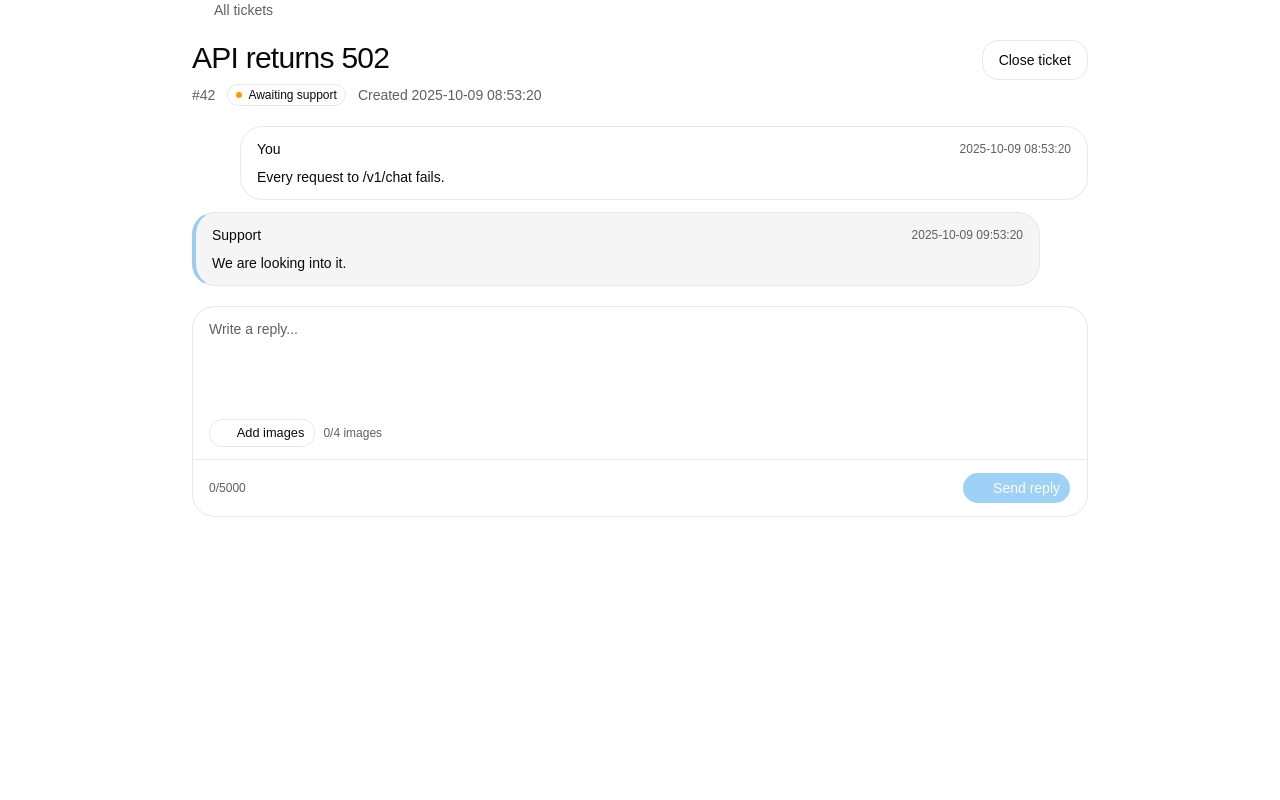
Test case: next support ticket detail › closes the ticket only after the user confirms
The width and height of the screenshot is (1280, 800).
Click the button "Close ticket" at coordinates (1035, 60), box [982,40,1088,80]
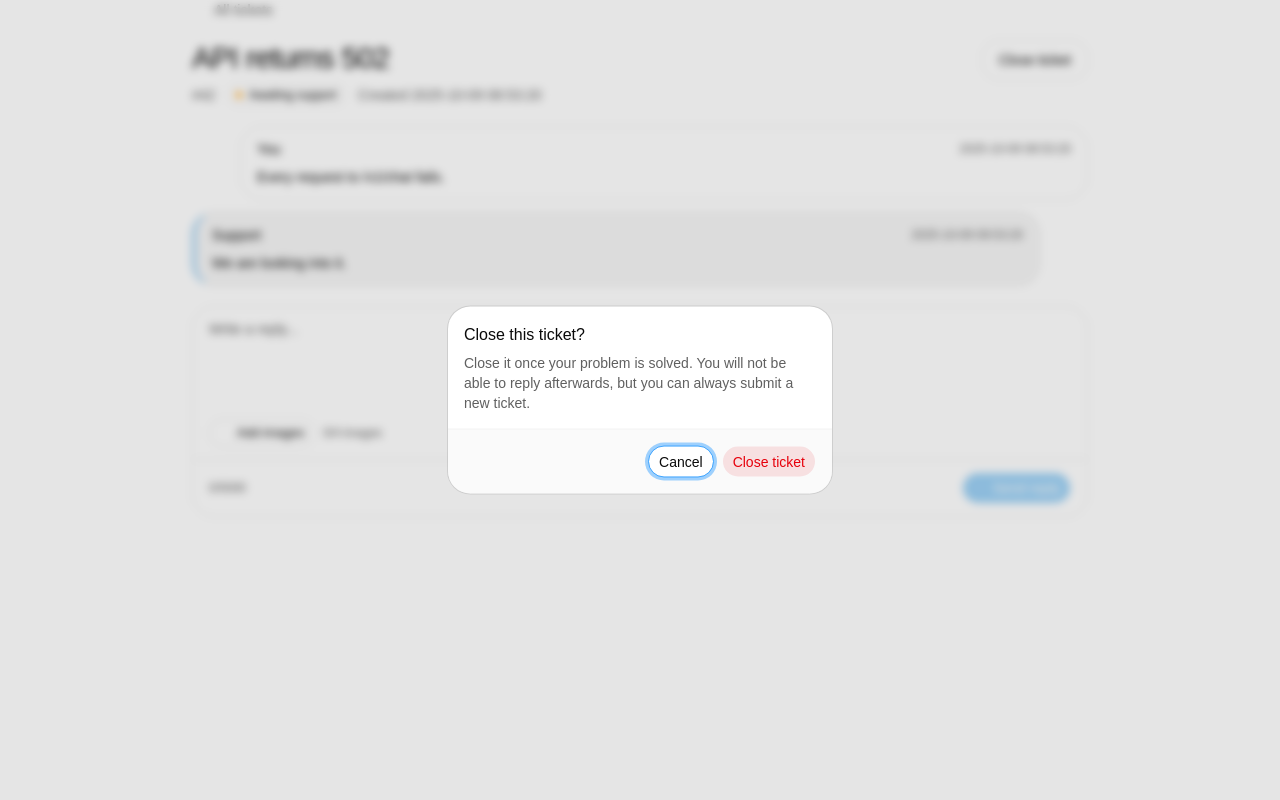
Click the button "Close ticket" at coordinates (769, 462), box [722,446,816,478]
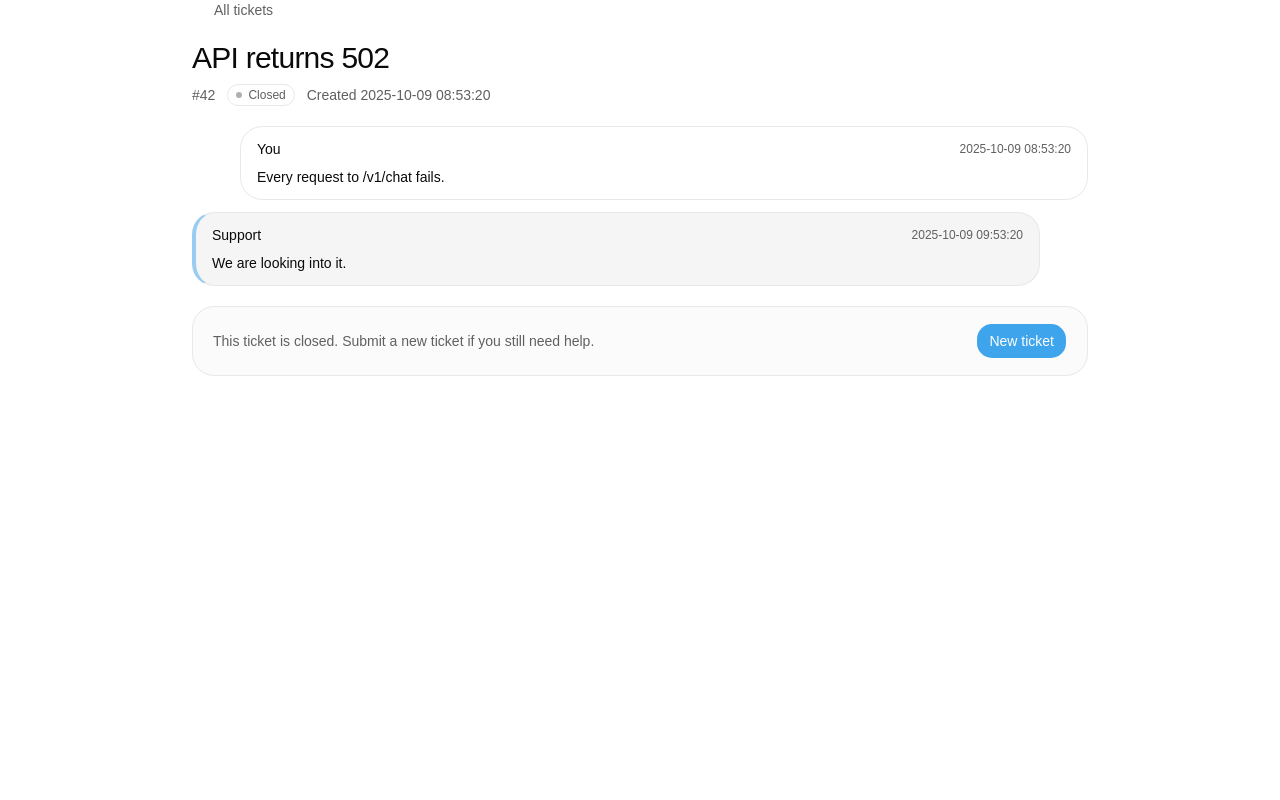
Check: the text "This ticket is closed. Submit a new ticket if you still need help." is shown, box [213,331,594,351]
Check: the button "reply" is gone
